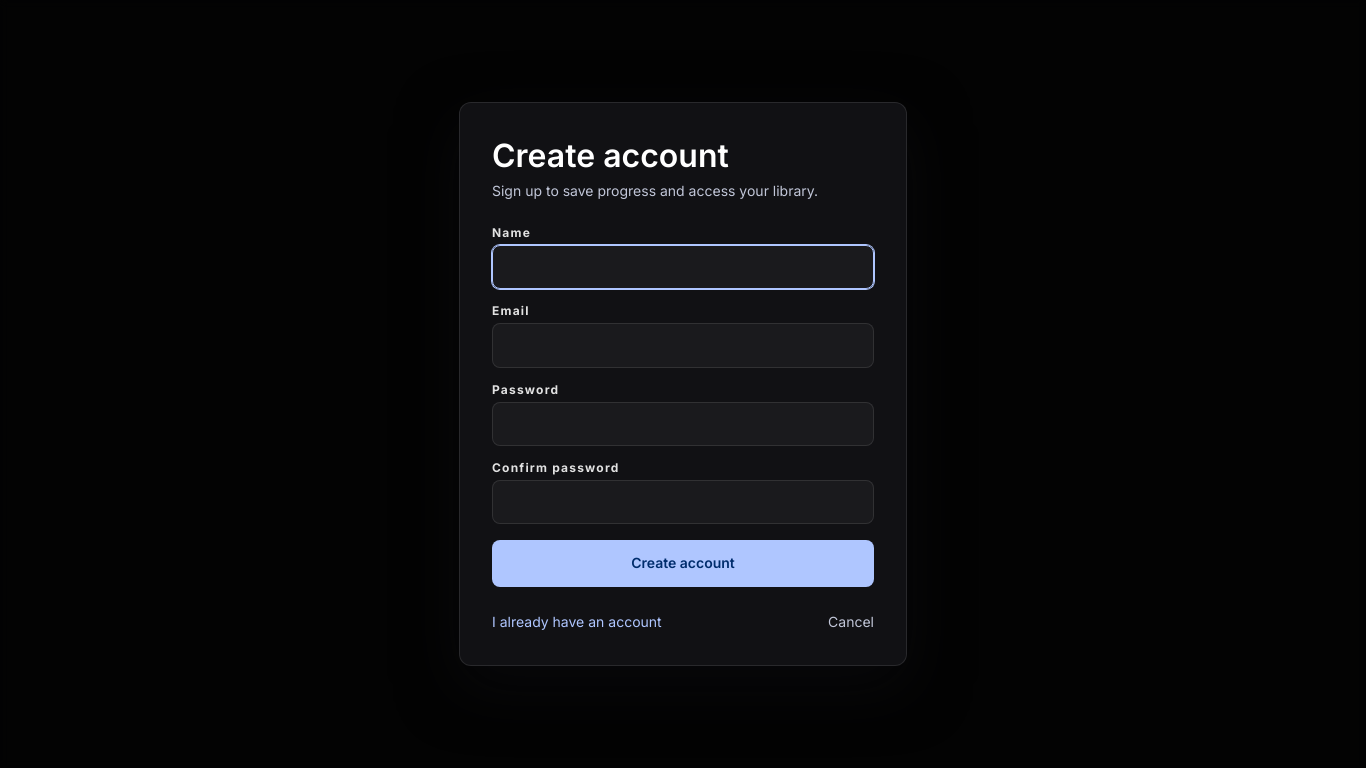
Test case: SignUpDialog › shows a mismatch error when passwords differ
This screenshot has width=1366, height=768.
Step 1. Type "Alex" into the field labelled "Name" → x=683, y=267, box [492,245,874,289]
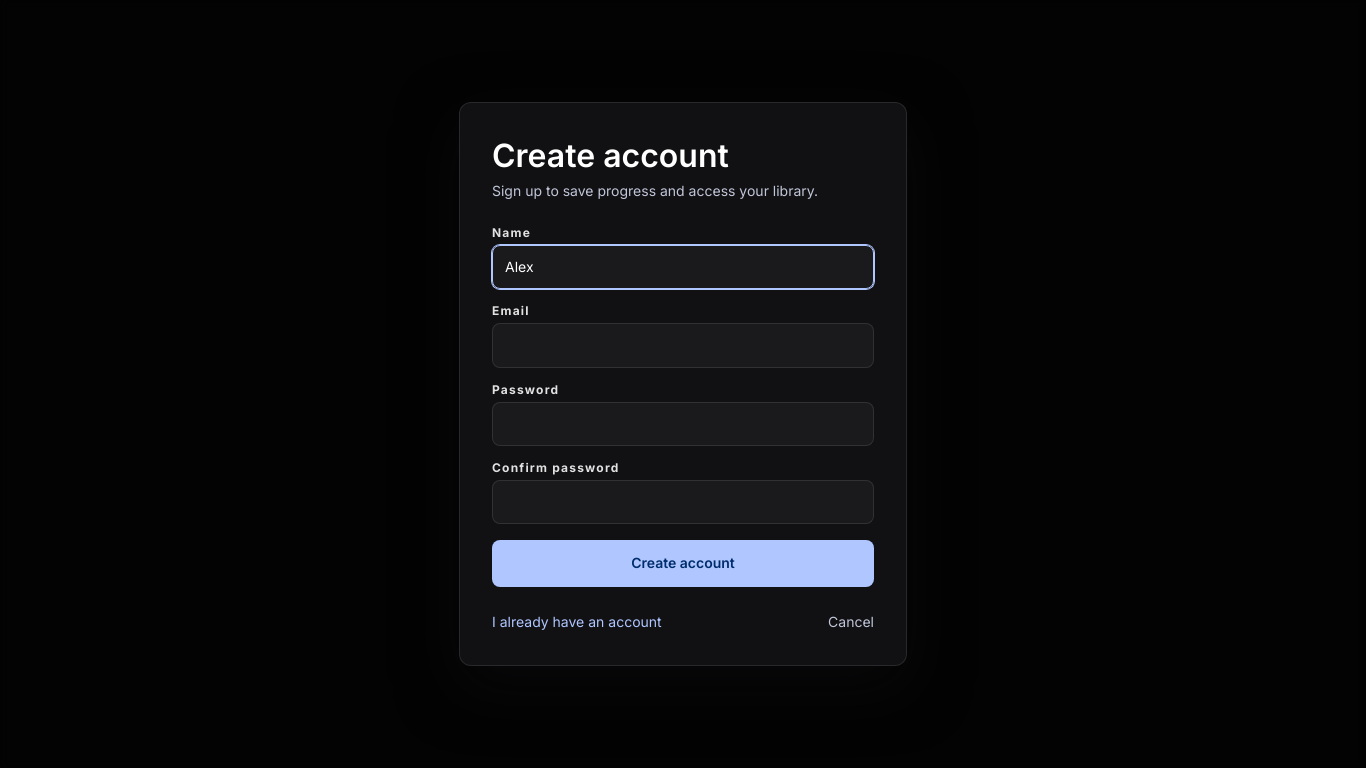
Step 2. Type "a@b.com" into the field labelled "Email" → x=683, y=345, box [492,323,874,368]
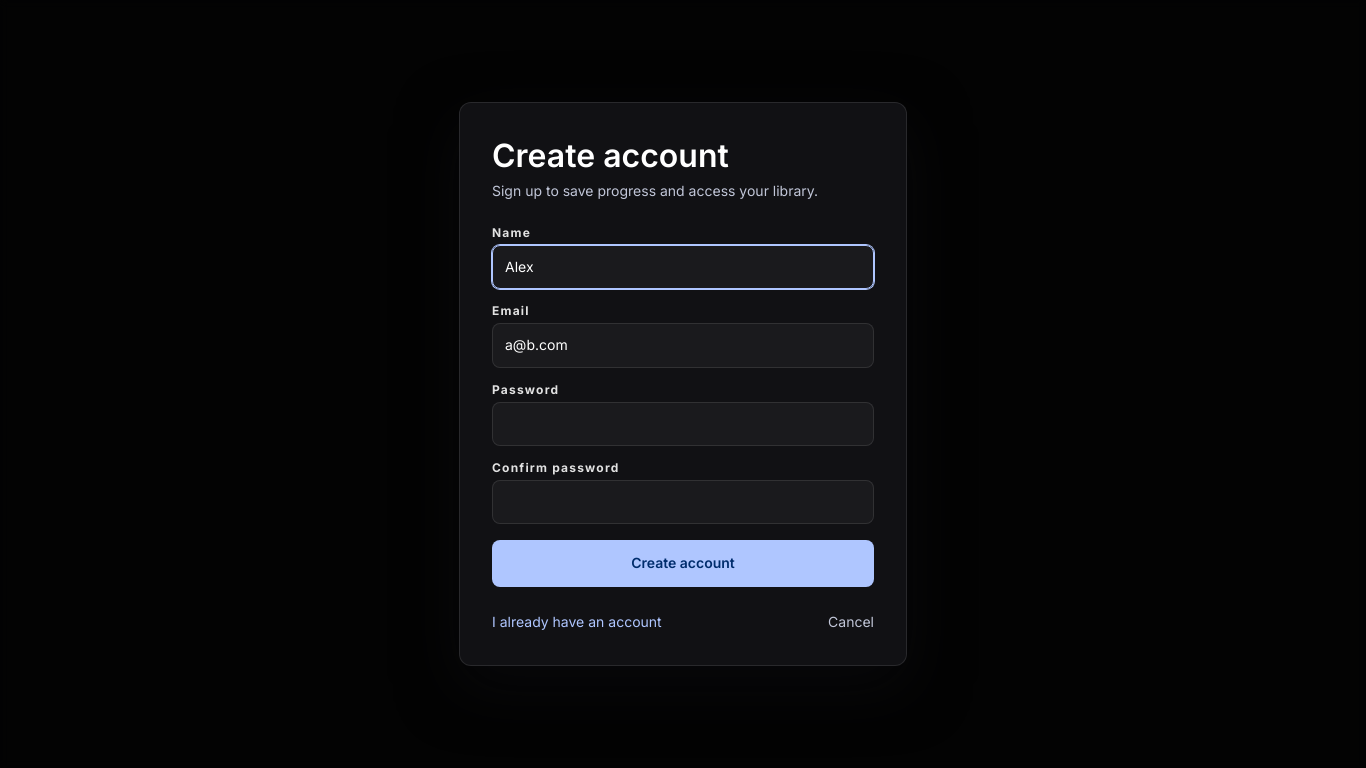
Step 3. Type "longenough1" into the password field labelled "Password" → x=683, y=424, box [492,402,874,446]
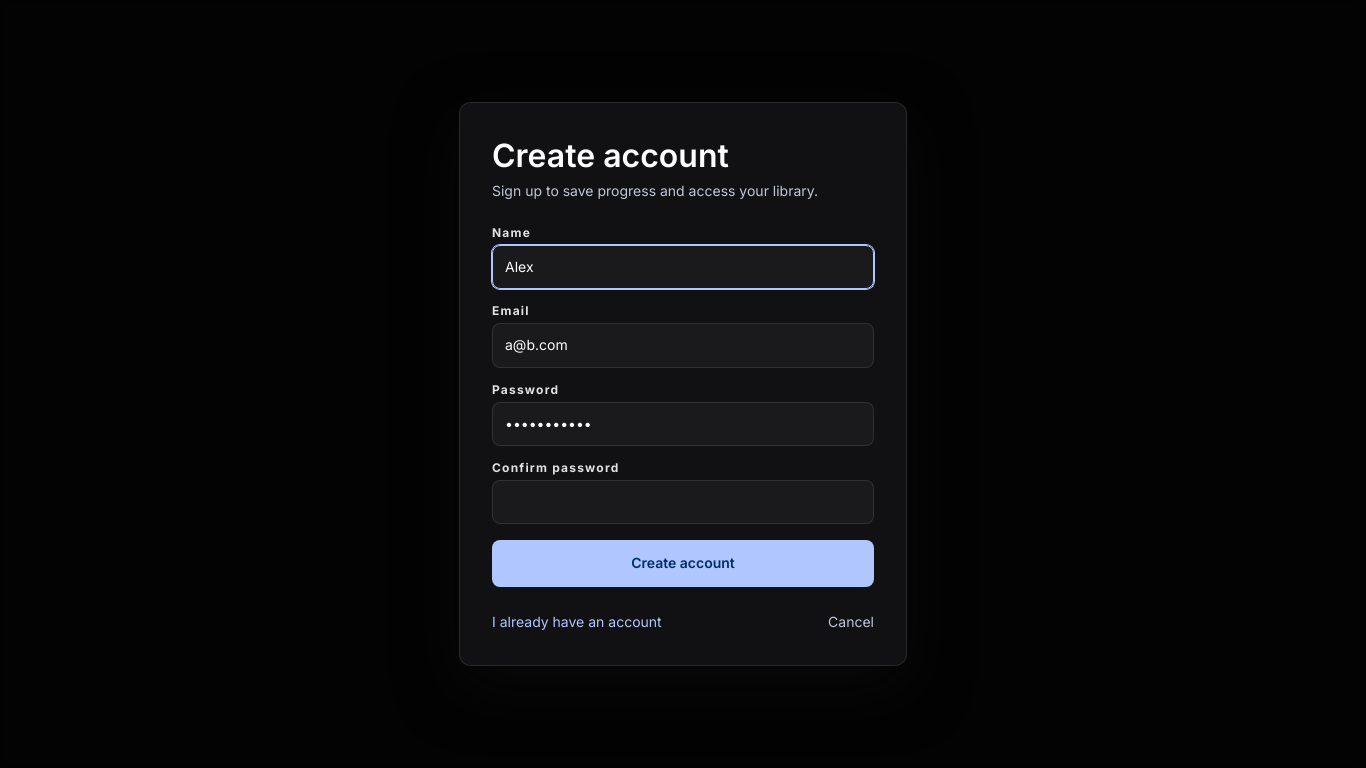
Step 4. Type "longenough2" into the password field labelled "Confirm password" → x=683, y=502, box [492,480,874,524]
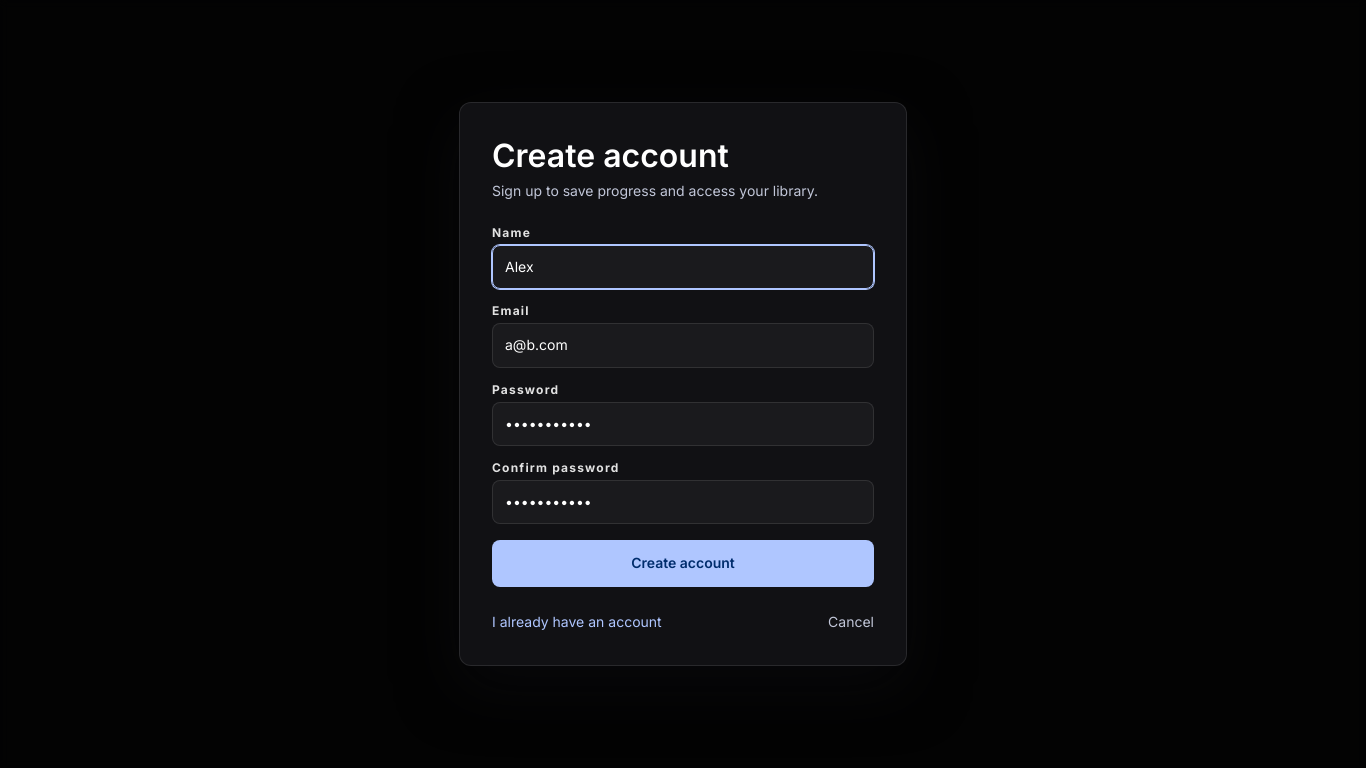
Step 5. Click the button "Create account" → x=683, y=564, box [492,540,874,587]
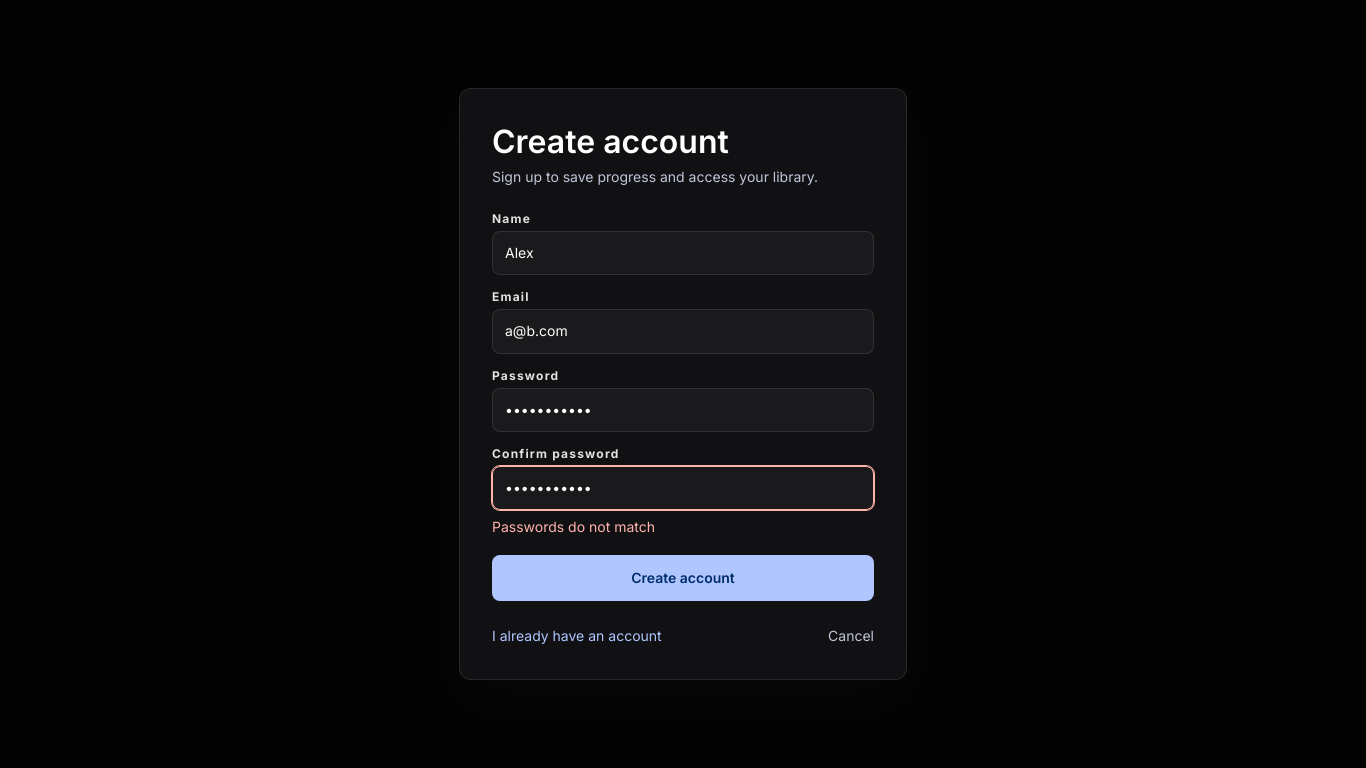
Now the text "Passwords do not match" is shown, box [492,518,655,535]
